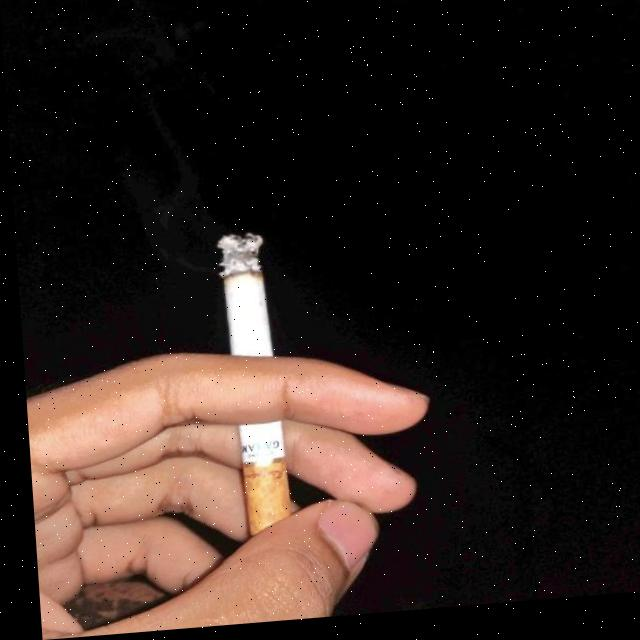cigarette: (215, 238, 283, 541)
